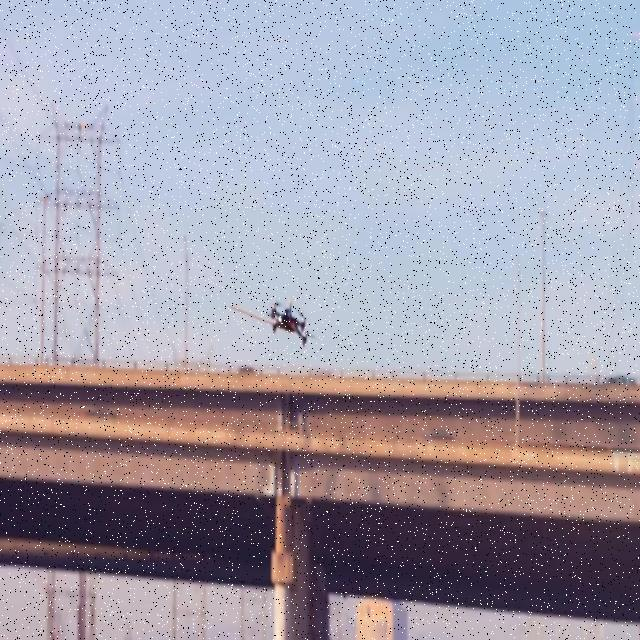UAV: (270, 300, 310, 348)
